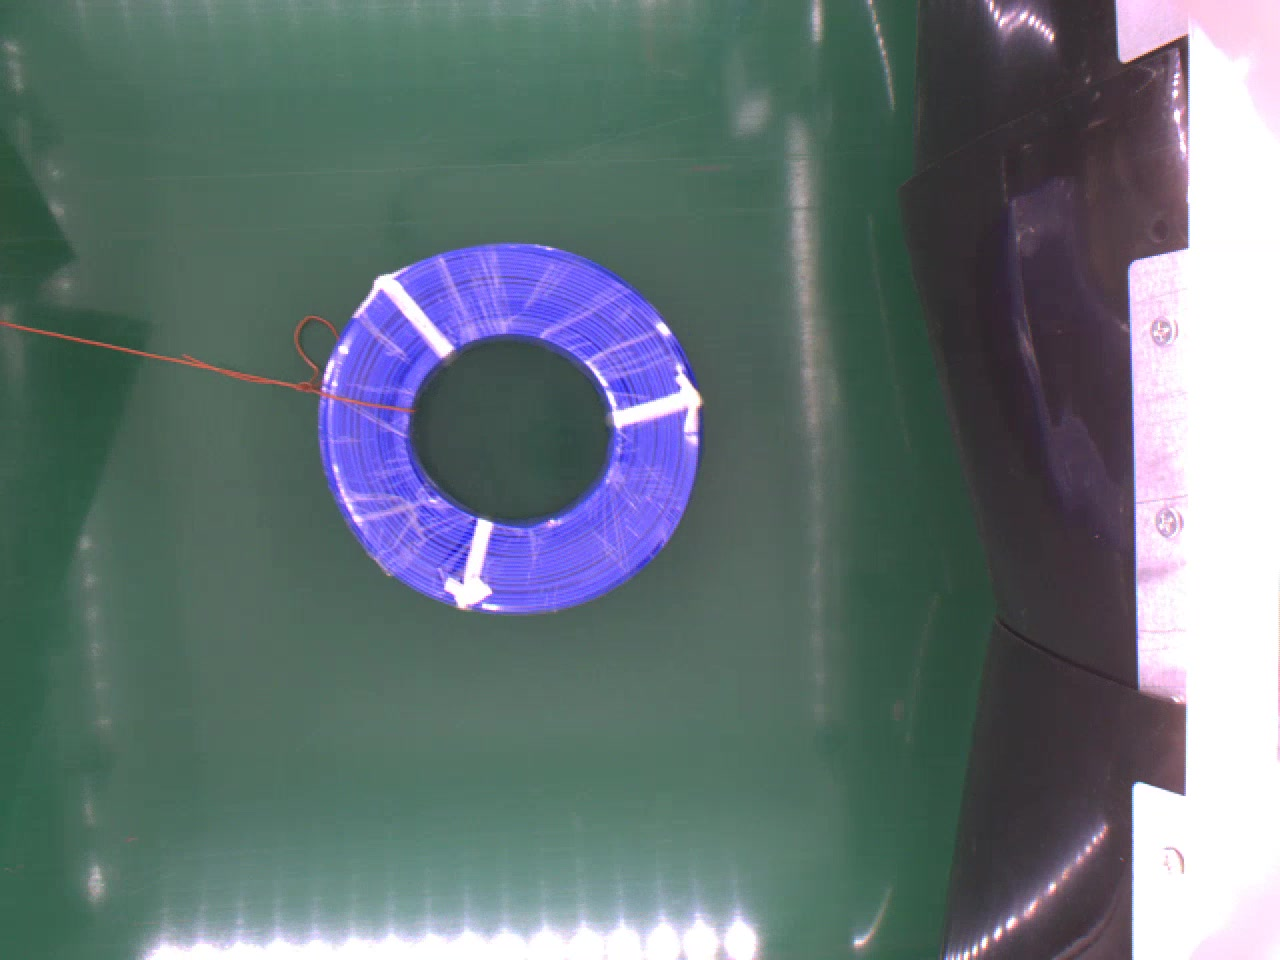blue: (309, 237, 703, 617)
